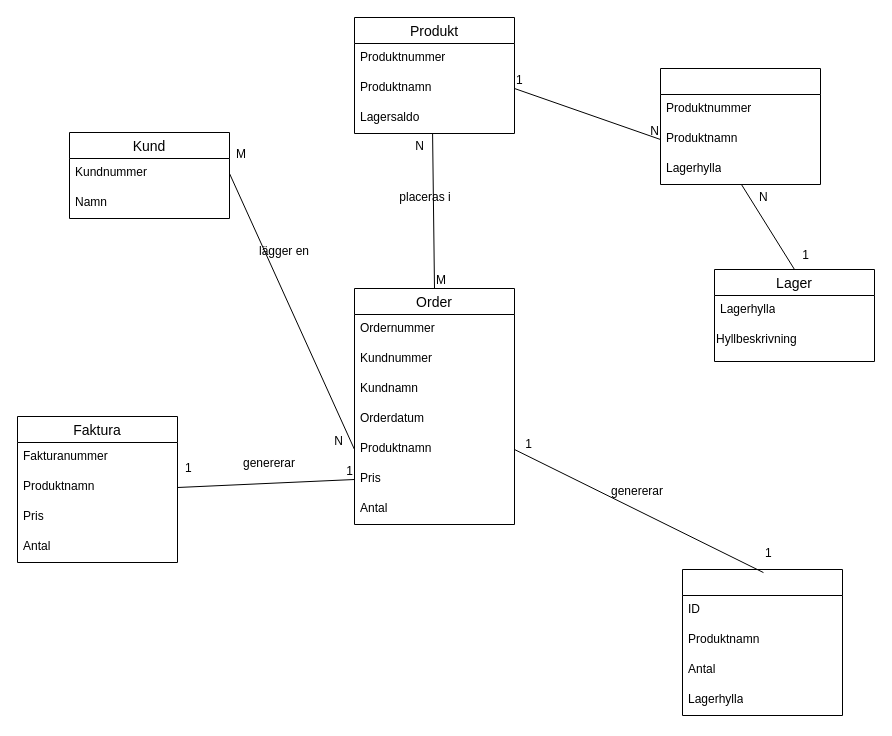
This 892x736 diagram has some shape labels left out. The box of each missing label's shape, as (x1, y1, x2, y2) in pixels:
finns på: (660, 68, 820, 184)
Plocklista: (682, 568, 842, 716)
